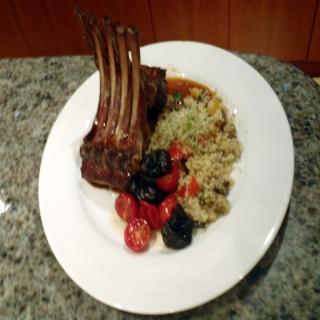tomato: (123, 216, 147, 250), (115, 191, 138, 225), (155, 162, 178, 195), (138, 201, 160, 226), (158, 193, 174, 227)
